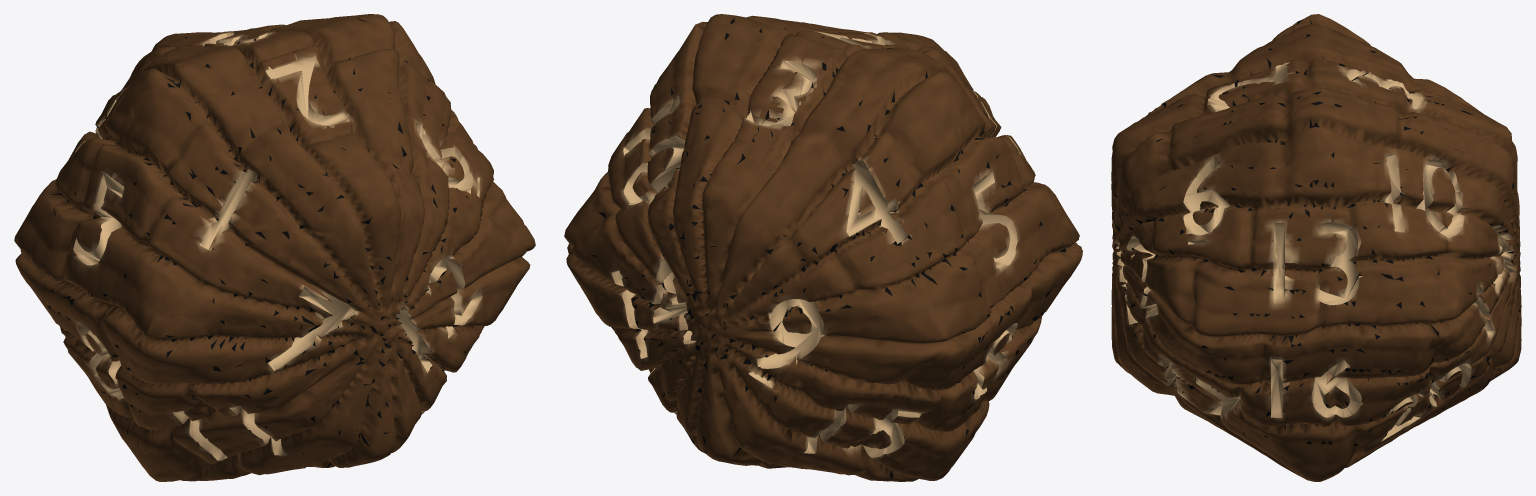
The picture shows the model from 3 angles, left to right: view 1: azimuth 30°, elevation 25°; view 2: azimuth 150°, elevation 25°; view 3: azimuth 270°, elevation 25°; orthographic projection. The views are drawn at different scales.
Visible parts, largest first — view 1: d20 canonical carved continuous body; view 2: d20 canonical carved continuous body; view 3: d20 canonical carved continuous body.
Boxes of the visible parts, x1,y1,x2,y2 form: d20 canonical carved continuous body: [14, 14, 535, 481]; d20 canonical carved continuous body: [564, 14, 1082, 481]; d20 canonical carved continuous body: [1111, 14, 1521, 481].
Bounding box in the file's own units: 1.71 × 1.71 × 1.7.
1 material, 1 textured.
